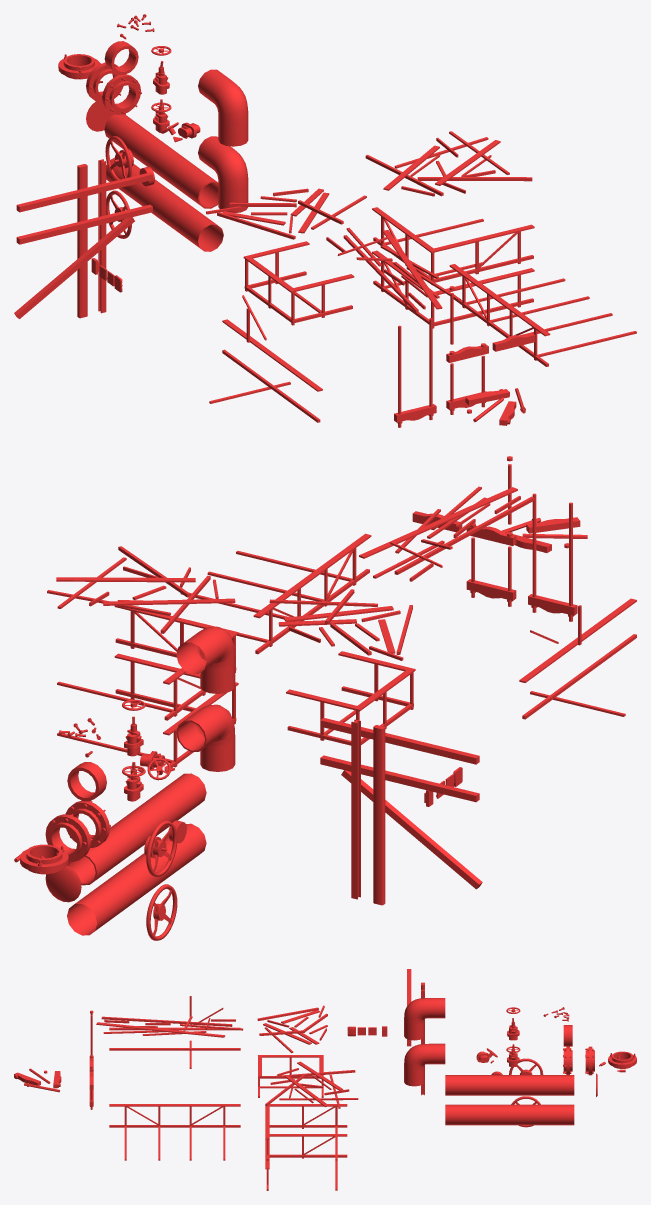
Rendered from constructor.FBX.
3 renders of one model, top to bottom at view 1: azimuth 30°, elevation 25°; view 2: azimuth 150°, elevation 25°; view 3: azimuth 270°, elevation 25°, orthographic. The views are drawn at different scales.
Visible parts, largest first — view 1: constructor_pipe, constructor_pipe_low, constructor_mountset_3, constructor_mountset_1, constructor_beamset, constructor_mountset, constructor_mountset_2_1, constructor_pipebend_low, constructor_mountset_3_1, constructor_mountset_2, constructor_pipebend, constructor_mountset_0 (+13 smaller); view 2: constructor_pipe, constructor_pipe_low, constructor_mountset_3_1, constructor_mountset_3, constructor_mountset_1, constructor_mountset_2_1, constructor_beamset, constructor_pipebend, constructor_pipebend_low, constructor_mountset_2, constructor_mountset, constructor_beam_2 (+15 smaller); view 3: constructor_pipe_low, constructor_pipe, constructor_mountset_3_1, constructor_mountset_3, constructor_mountset_1, constructor_pipebend, constructor_pipebend_low, constructor_mountset_2_1, constructor_mountset, constructor_mountset_0, constructor_mountset_2, constructor_holderpart_5 (+2 smaller).
Part boxes in pixels (bbox=[...]): constructor_pipe: bbox=[104, 114, 218, 208]; constructor_pipe_low: bbox=[106, 157, 223, 251]; constructor_mountset_3: bbox=[449, 264, 636, 366]; constructor_mountset_1: bbox=[365, 131, 532, 196]; constructor_beamset: bbox=[14, 204, 152, 318]; constructor_mountset: bbox=[372, 207, 534, 285]; constructor_mountset_2_1: bbox=[206, 188, 366, 239]; constructor_pipebend_low: bbox=[198, 69, 248, 146]; constructor_mountset_3_1: bbox=[326, 227, 460, 312]; constructor_mountset_2: bbox=[243, 241, 354, 325]; constructor_pipebend: bbox=[198, 136, 248, 212]; constructor_mountset_0: bbox=[372, 250, 534, 328]; constructor_pipe: bbox=[67, 773, 206, 885]; constructor_pipe_low: bbox=[67, 823, 206, 935]; constructor_mountset_3_1: bbox=[359, 486, 534, 581]; constructor_mountset_3: bbox=[180, 533, 371, 654]; constructor_mountset_1: bbox=[47, 546, 235, 633]; constructor_mountset_2_1: bbox=[269, 589, 412, 660]; constructor_beamset: bbox=[320, 755, 482, 889]; constructor_pipebend: bbox=[176, 704, 235, 771]; constructor_pipebend_low: bbox=[176, 626, 235, 693]; constructor_mountset_2: bbox=[286, 651, 415, 745]; constructor_mountset: bbox=[57, 606, 238, 720]; constructor_beam_2: bbox=[373, 725, 385, 905]; constructor_pipe_low: bbox=[445, 1104, 574, 1125]; constructor_pipe: bbox=[445, 1075, 574, 1095]; constructor_mountset_3_1: bbox=[96, 1016, 243, 1037]; constructor_mountset_3: bbox=[109, 1104, 240, 1160]; constructor_mountset_1: bbox=[265, 1061, 358, 1108]; constructor_pipebend: bbox=[404, 1043, 445, 1086]; constructor_pipebend_low: bbox=[404, 998, 445, 1040]; constructor_mountset_2_1: bbox=[257, 1005, 327, 1053]; constructor_mountset: bbox=[265, 1104, 347, 1160]; constructor_mountset_0: bbox=[265, 1134, 347, 1190]; constructor_mountset_2: bbox=[258, 1055, 323, 1097]; constructor_holderpart_5: bbox=[14, 1068, 61, 1092].
Bounding box in the file's own units: 654 × 298 × 1208.
